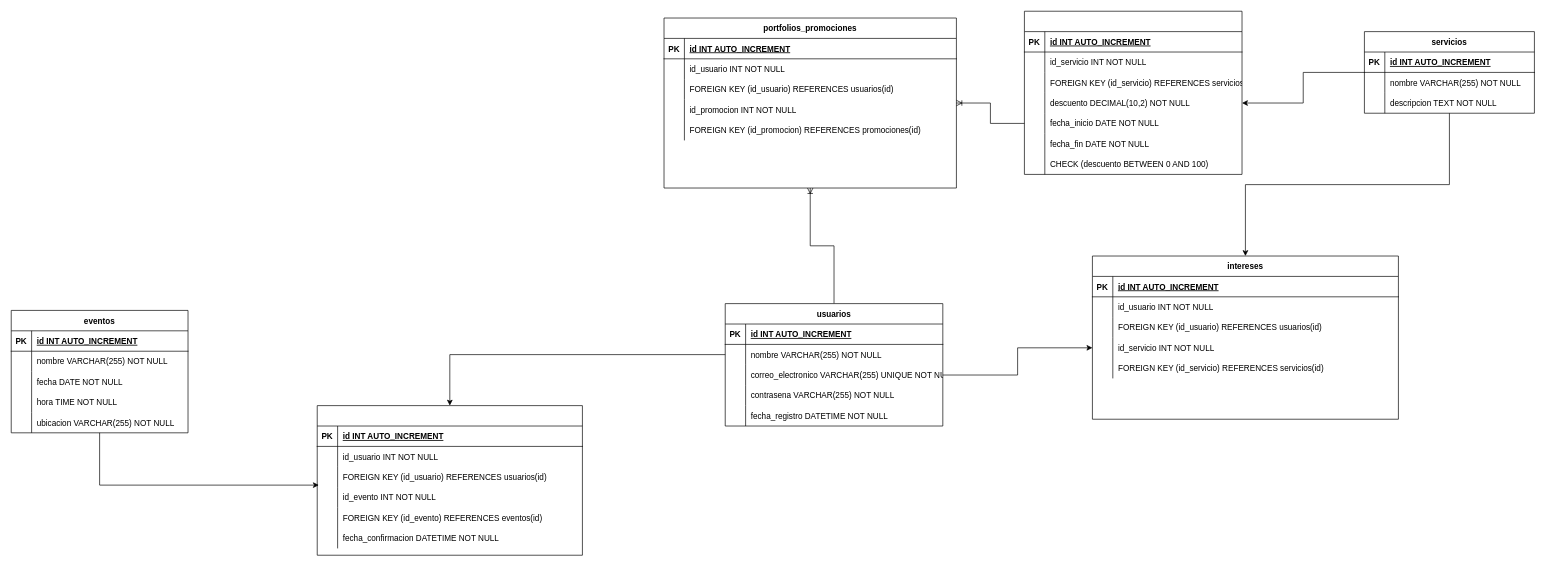
Image size: 1546x566. Some labels were removed from this diagram. The box of each missing label's shape, as (x1, y1, x2, y2) in pixels:
asistencias: (317, 405, 582, 555)
promociones: (1024, 11, 1242, 174)
